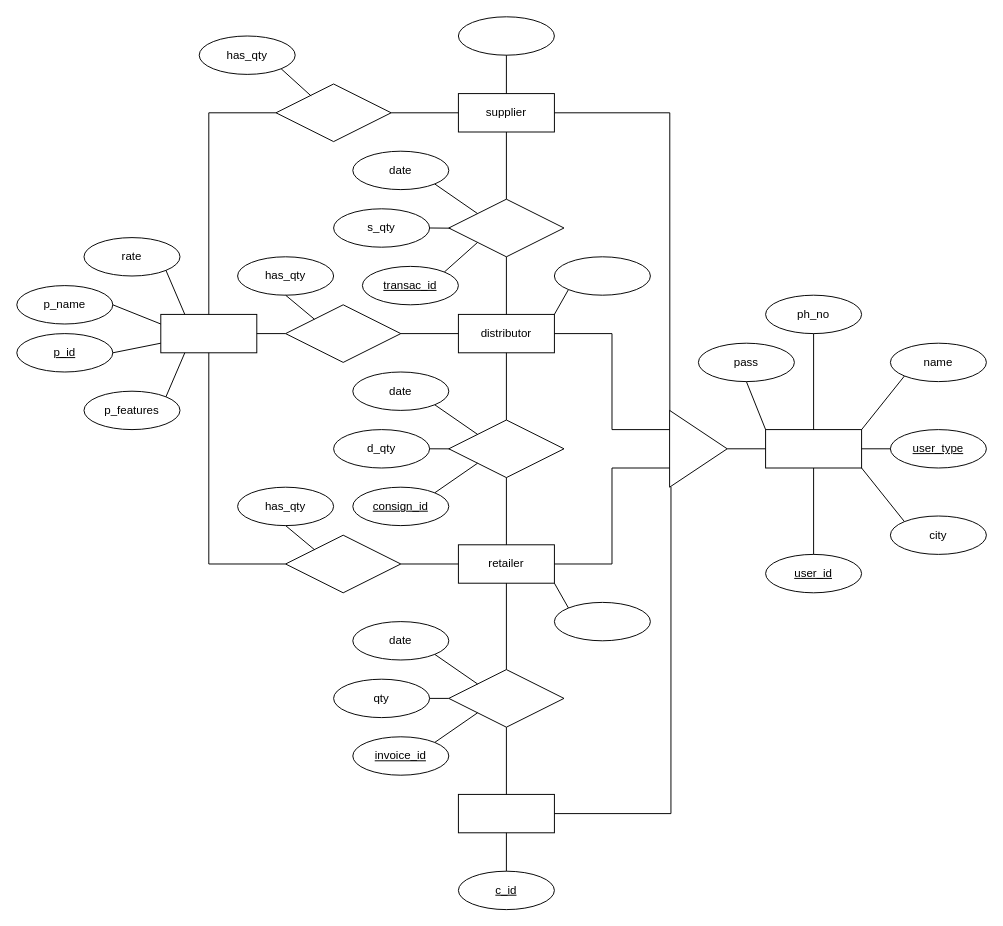
Some shapes in this 1003 by 926 pixel diagram are drawn without their labels. The centre of each missing label's shape, as x and y in pixels:
"customer" belongs at point 505,813.
"d_id" belongs at point 601,275.
"dist_inv" belongs at point 343,333.
"distributes" belongs at point 506,448.
"has" belongs at point 333,112.
"invoices" belongs at point 506,698.
"IS A" belongs at point 698,448.
"product" belongs at point 208,333.
"r_id" belongs at point 601,621.
"retail_inv" belongs at point 343,563.
"s_id" belongs at point 505,35.
"supplies" belongs at point 506,227.
"user" belongs at point 813,448.
